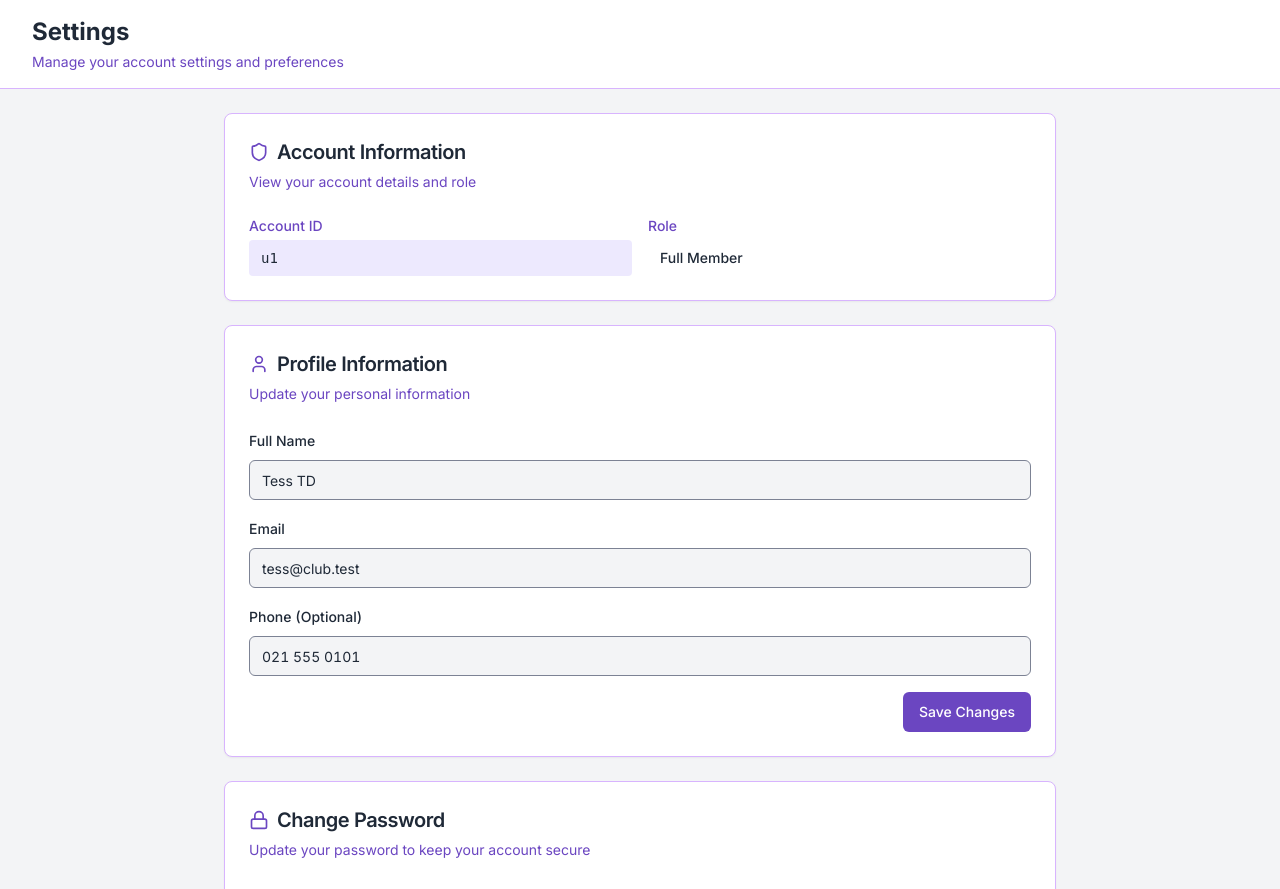
Test: Settings page › says when the profile could not be saved
Step 1. Click the button "Save Changes" → (967, 712), box [903,692,1031,732]
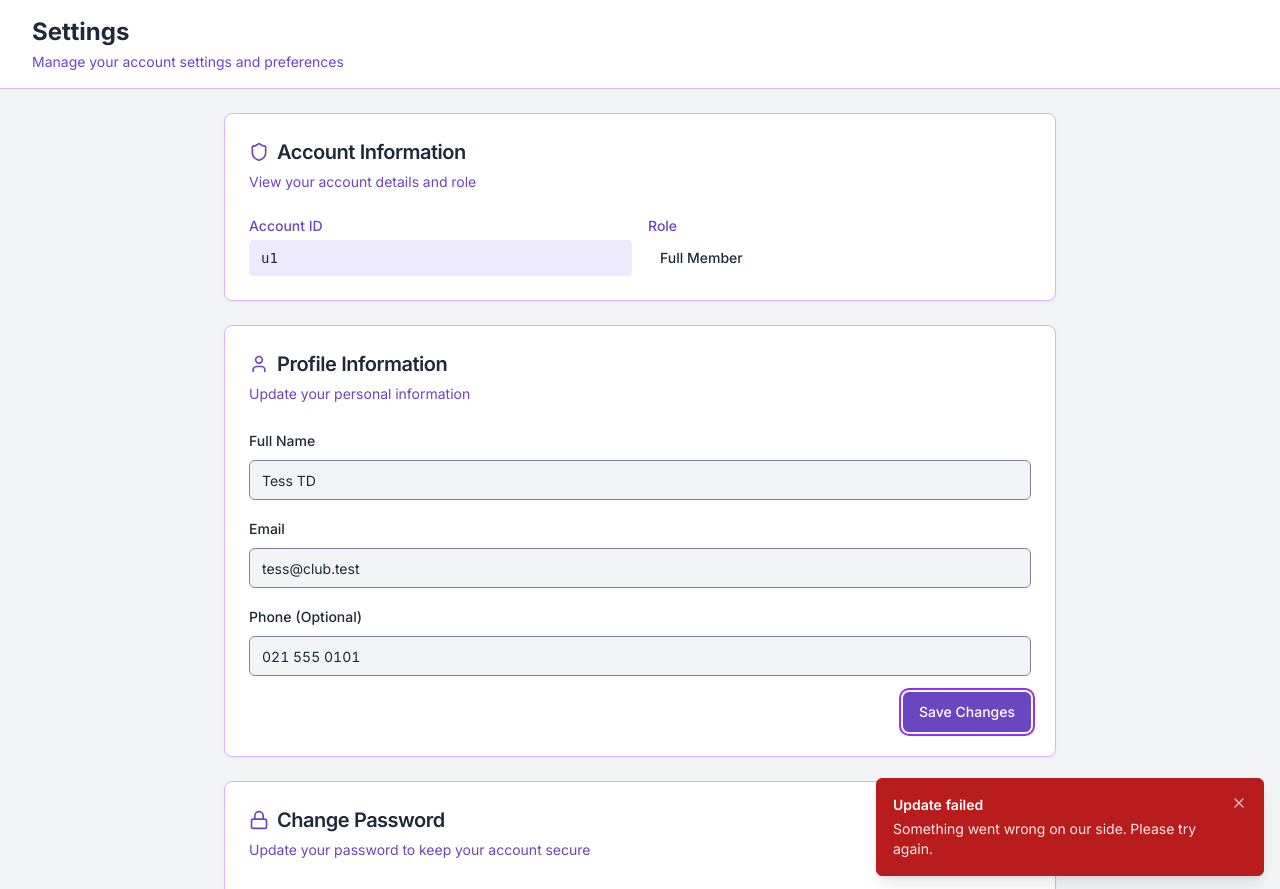
Check: the text "Update failed" is shown, box [893,796,983,813]
Check: the text "Something went wrong on our side. Please try again." is shown, box [893,819,1215,859]
